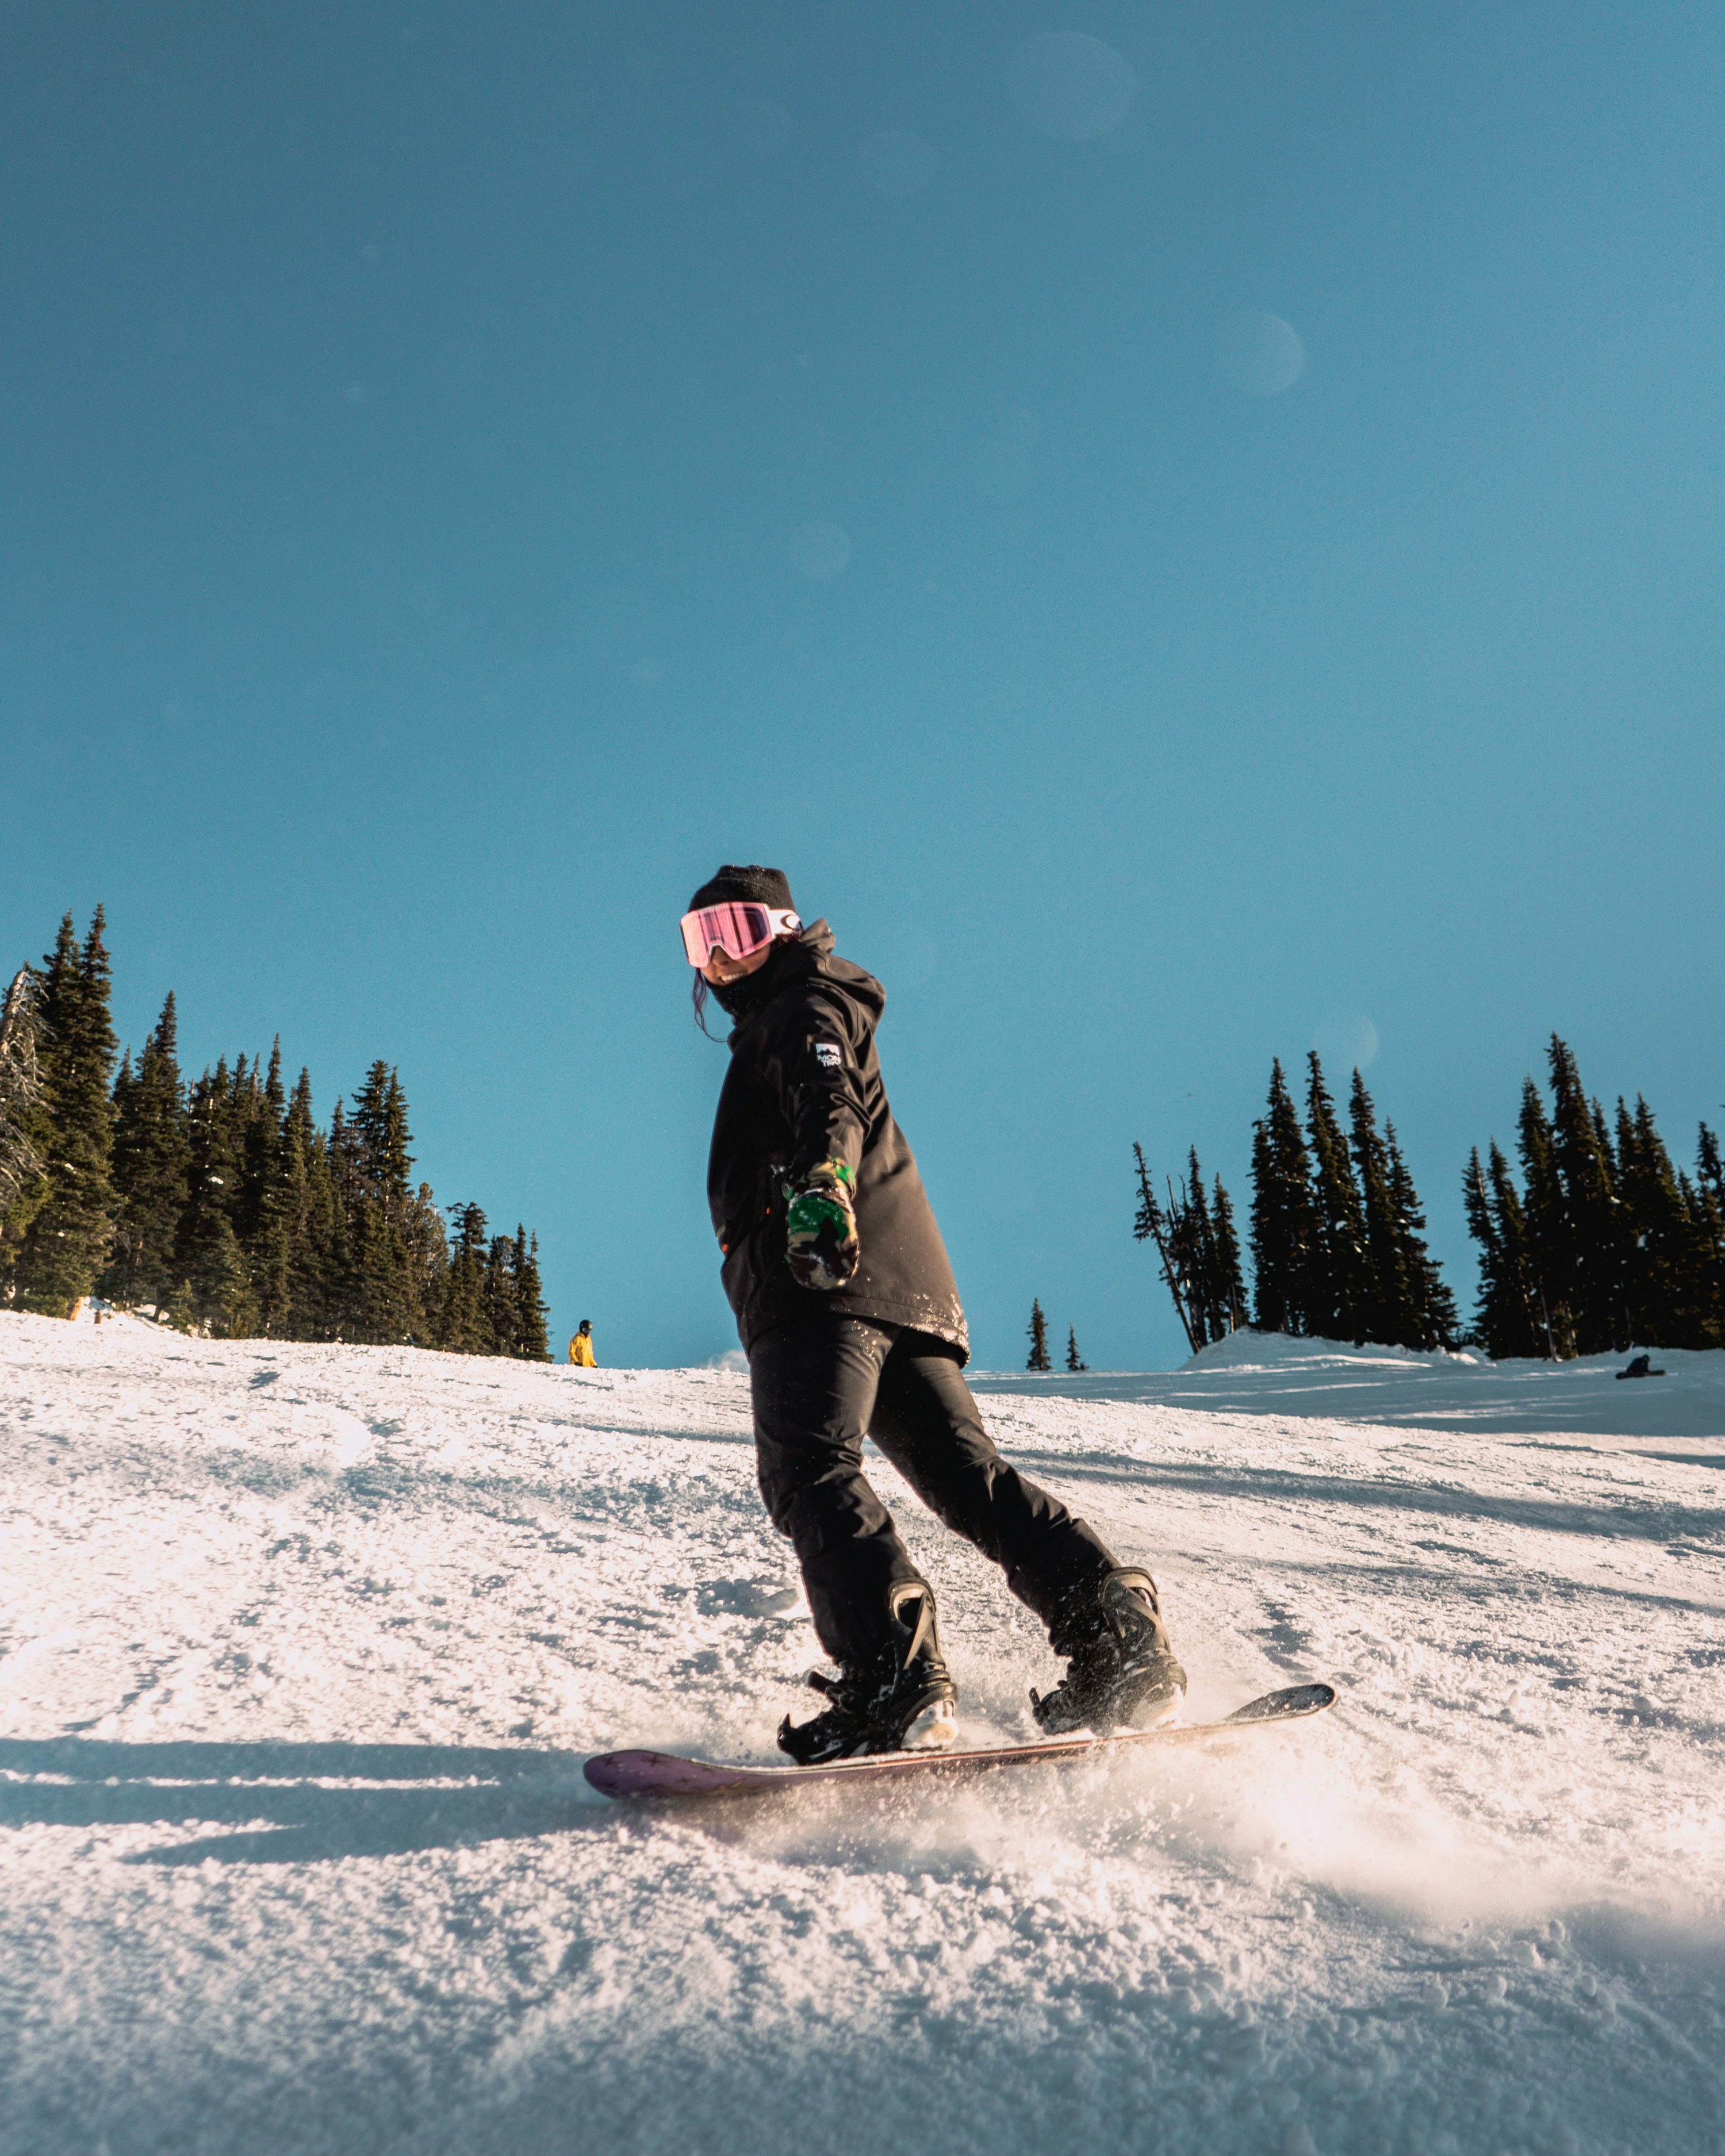snowboarder: (567, 796, 1399, 1883)
